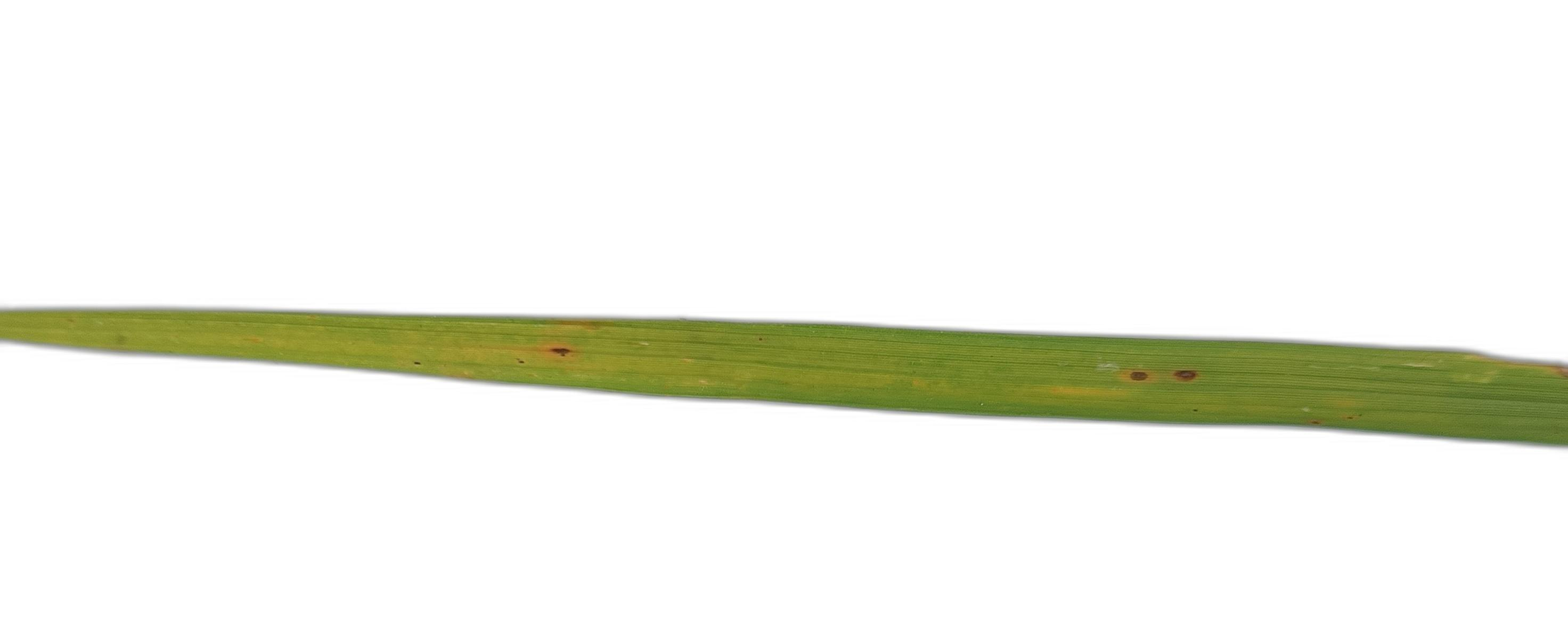LEAF: (0, 311, 1567, 445)
LEAF BLAST: (1122, 370, 1157, 381), (1173, 370, 1197, 381)
